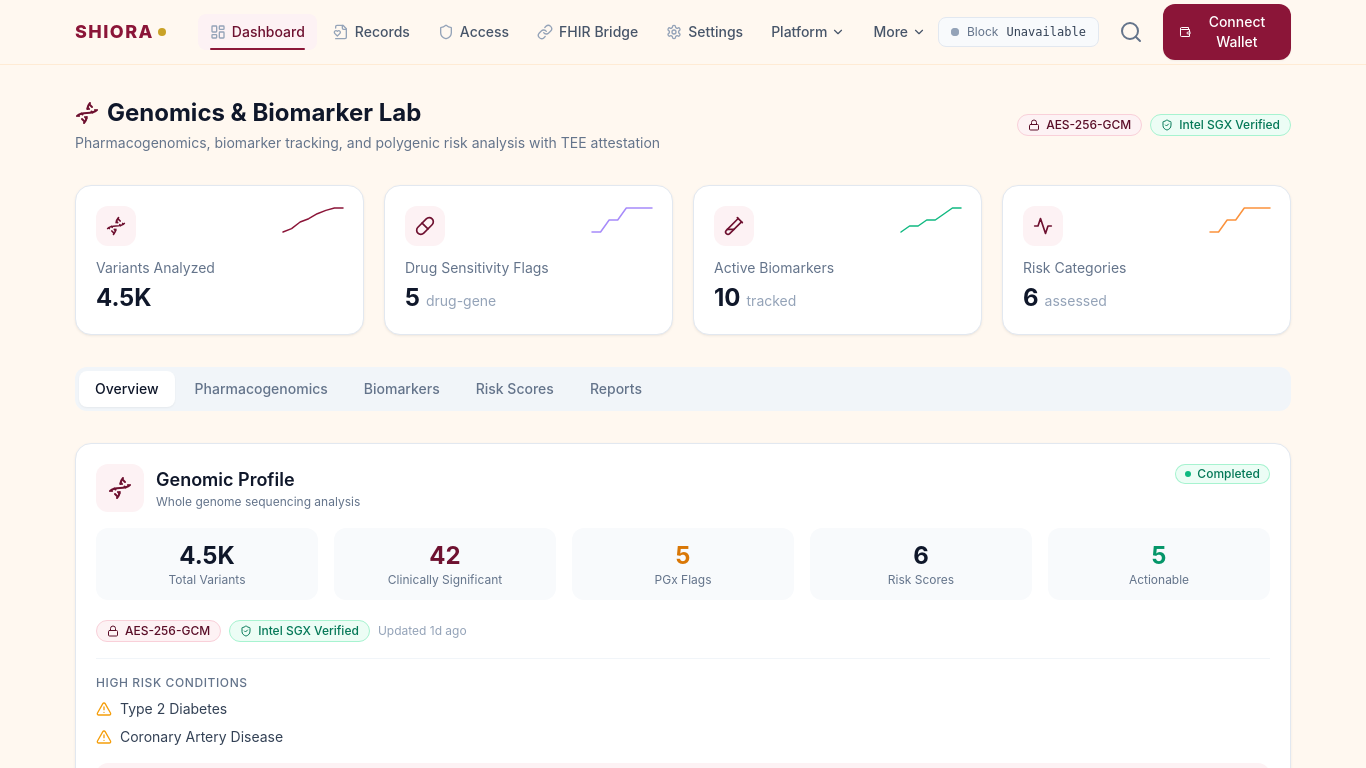
Test: GenomicsPage › shows loading message when pharmacogenomics data is empty
The width and height of the screenshot is (1366, 768).
Step 1. Click the tab "Pharmacogenomics" → (261, 389), box [178,371,344,407]
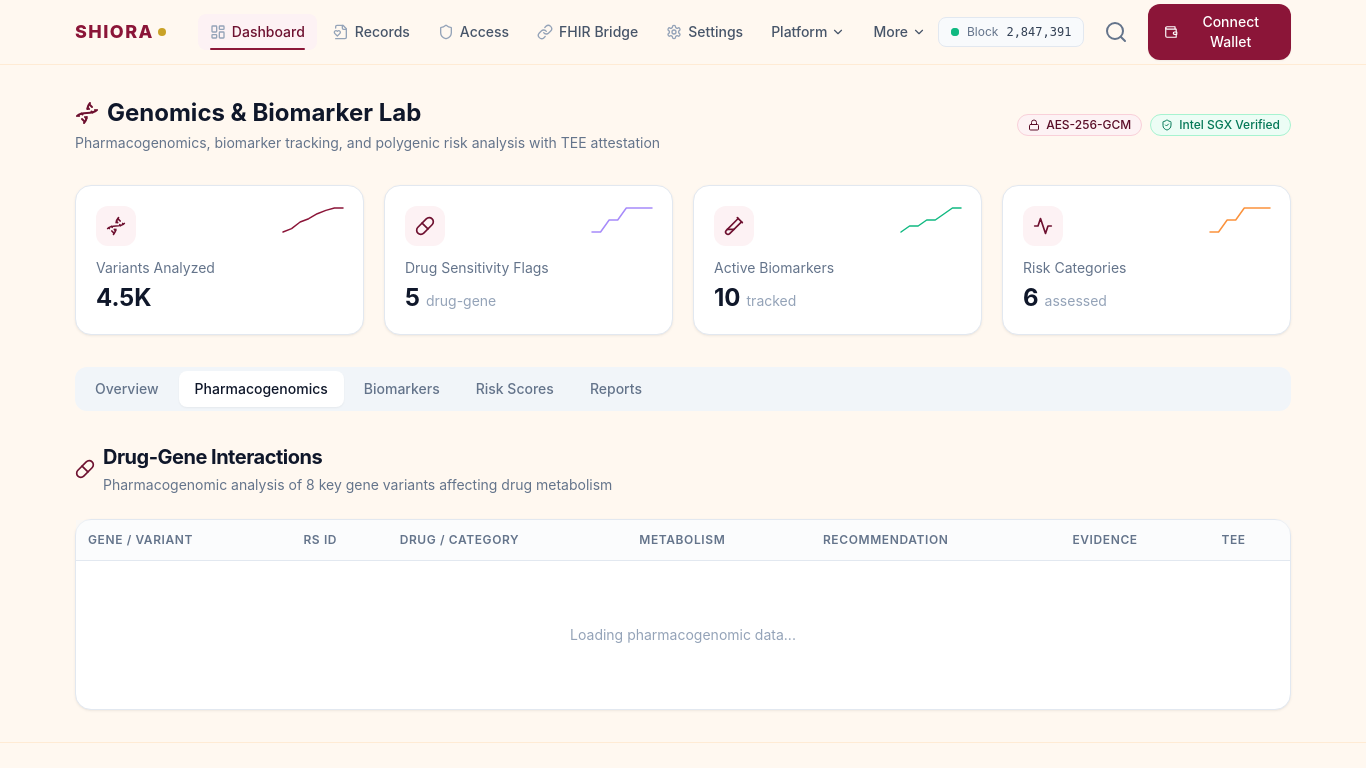
Result: the text "Loading pharmacogenomic data..." is shown at [570,626,796,643]
